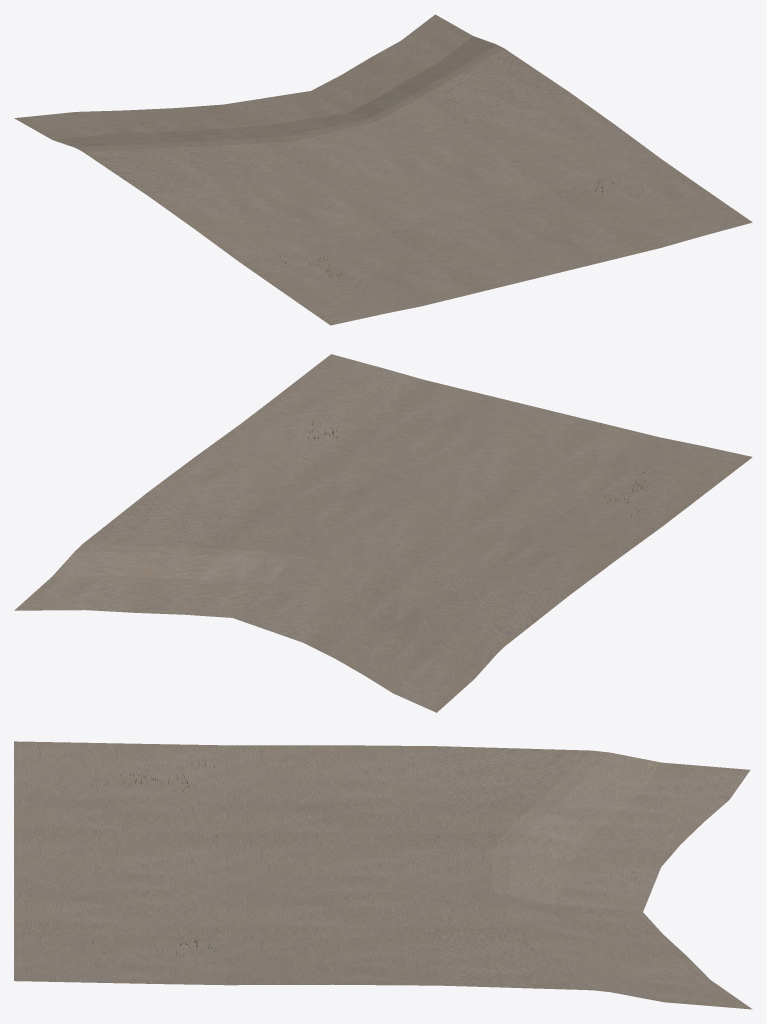
The model's file is blouberg_sunrise_2.glb.
3 renders of one model, top to bottom at view 1: azimuth 30°, elevation 25°; view 2: azimuth 150°, elevation 25°; view 3: azimuth 270°, elevation 25°, orthographic. The views are drawn at different scales.
Parts seen in each view (by area): view 1: blouberg_sunrise_2_BakedForeground; view 2: blouberg_sunrise_2_BakedForeground; view 3: blouberg_sunrise_2_BakedForeground.
Part boxes in pixels (left/top/right/bottom): blouberg_sunrise_2_BakedForeground: left=14, top=14, right=752, bottom=325; blouberg_sunrise_2_BakedForeground: left=14, top=354, right=752, bottom=712; blouberg_sunrise_2_BakedForeground: left=14, top=741, right=752, bottom=1009.
Size of what is drawn, in the model's own units: 32 by 1.77 by 41.69.
2 materials, 1 textured.
